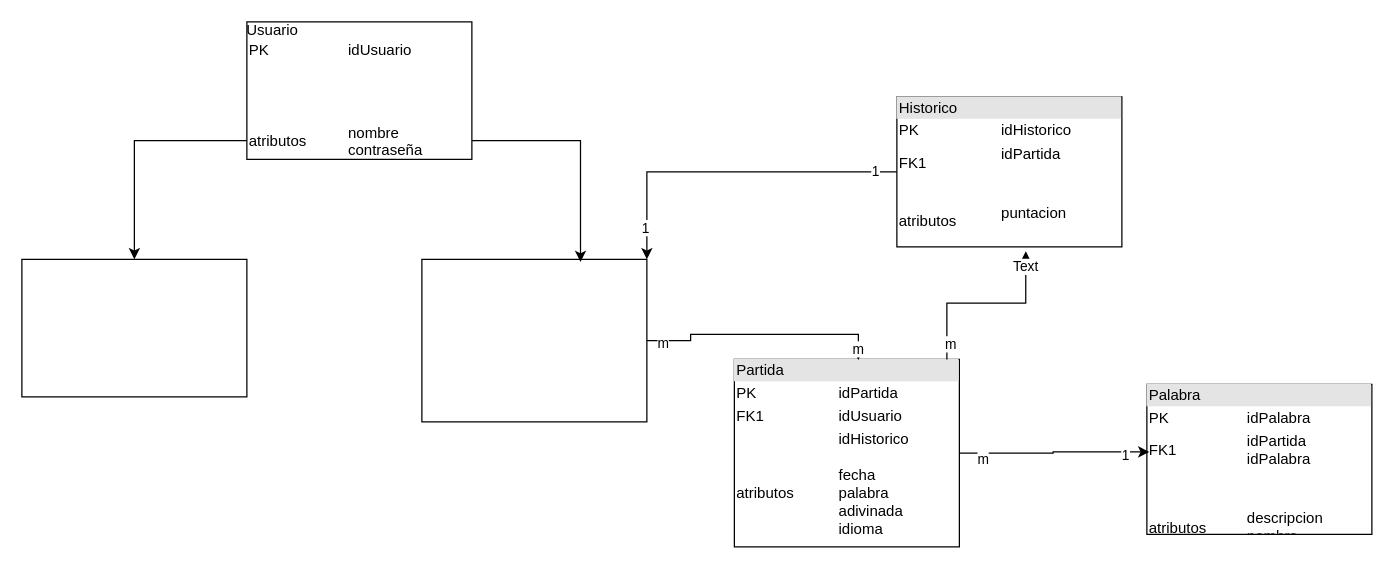
Some shapes in this 1394 by 569 pixel diagram are drawn without their labels. The shapes that lost their labels are listed below. From the top down, each one's box as (x1, y1, x2, y2) in pixels, then its label:
(21, 258, 247, 397): Administrador PK idUsuario FK idUsuario atributos tipo
(421, 258, 647, 422): Jugador PK idUsuario FK1 idPartida atributos idHistorico idUsuario ranking
